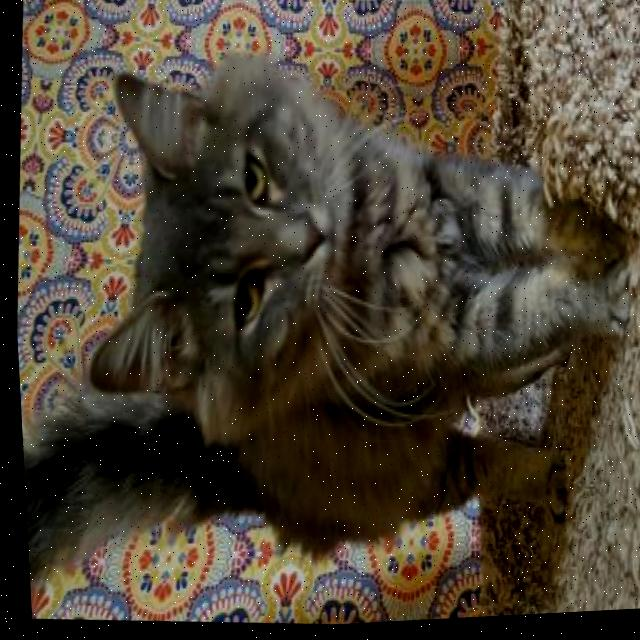Maine Coon: (2, 16, 640, 640)
